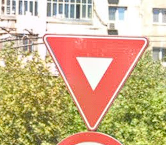cedeaza: (41, 30, 153, 134)
